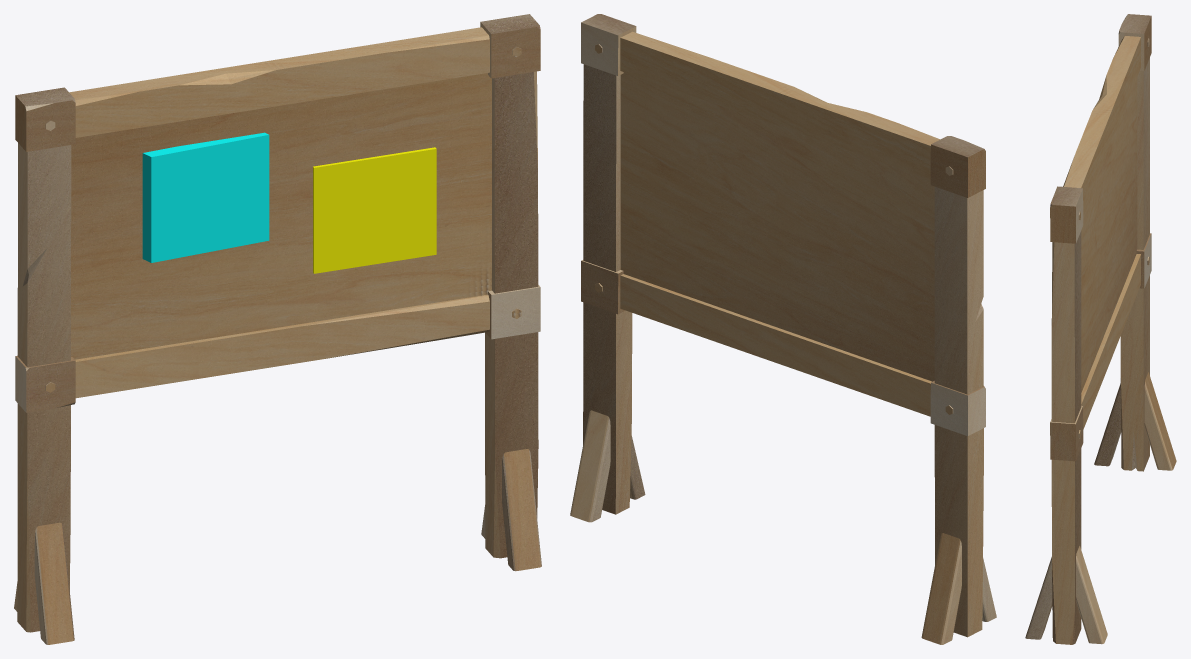
Rendered from postit.glb.
3 views of the same model, side by side, from view 1: azimuth 30°, elevation 25°; view 2: azimuth 150°, elevation 25°; view 3: azimuth 270°, elevation 25° (orthographic). The views are drawn at different scales.
Visible parts, largest first — view 1: board; view 2: board; view 3: board.
Boxes of the visible parts, left/top/right/bottom form: board: left=14, top=14, right=541, bottom=644; board: left=570, top=14, right=996, bottom=644; board: left=1025, top=14, right=1176, bottom=644.
Bounding box in the file's own units: 2.67 × 2.83 × 0.8842.
Materials: 3 (1 with a texture image).
